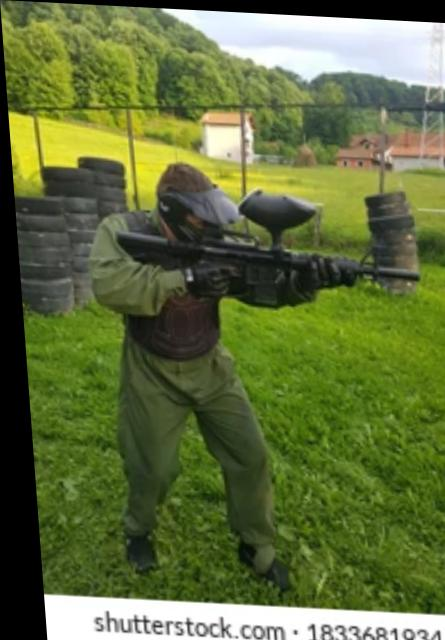other: (81, 163, 266, 561)
